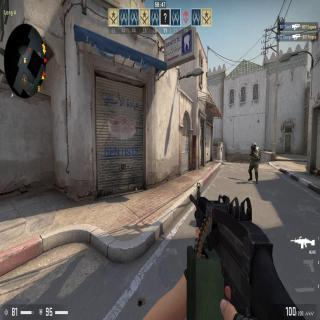CT-Body: (248, 142, 260, 184)
CT-Head: (250, 142, 256, 150)
